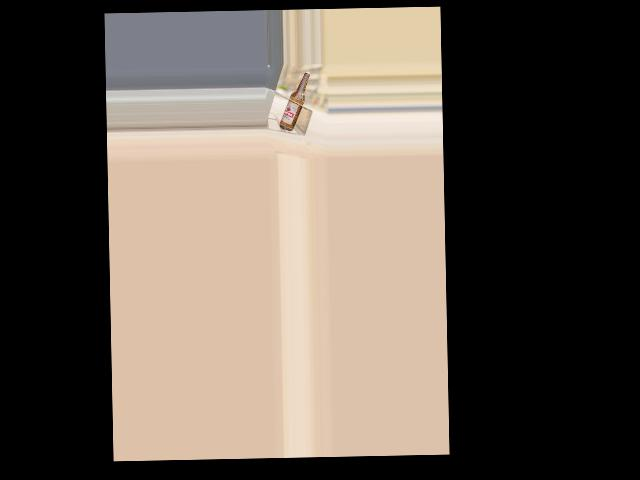beer: (277, 70, 311, 131)
